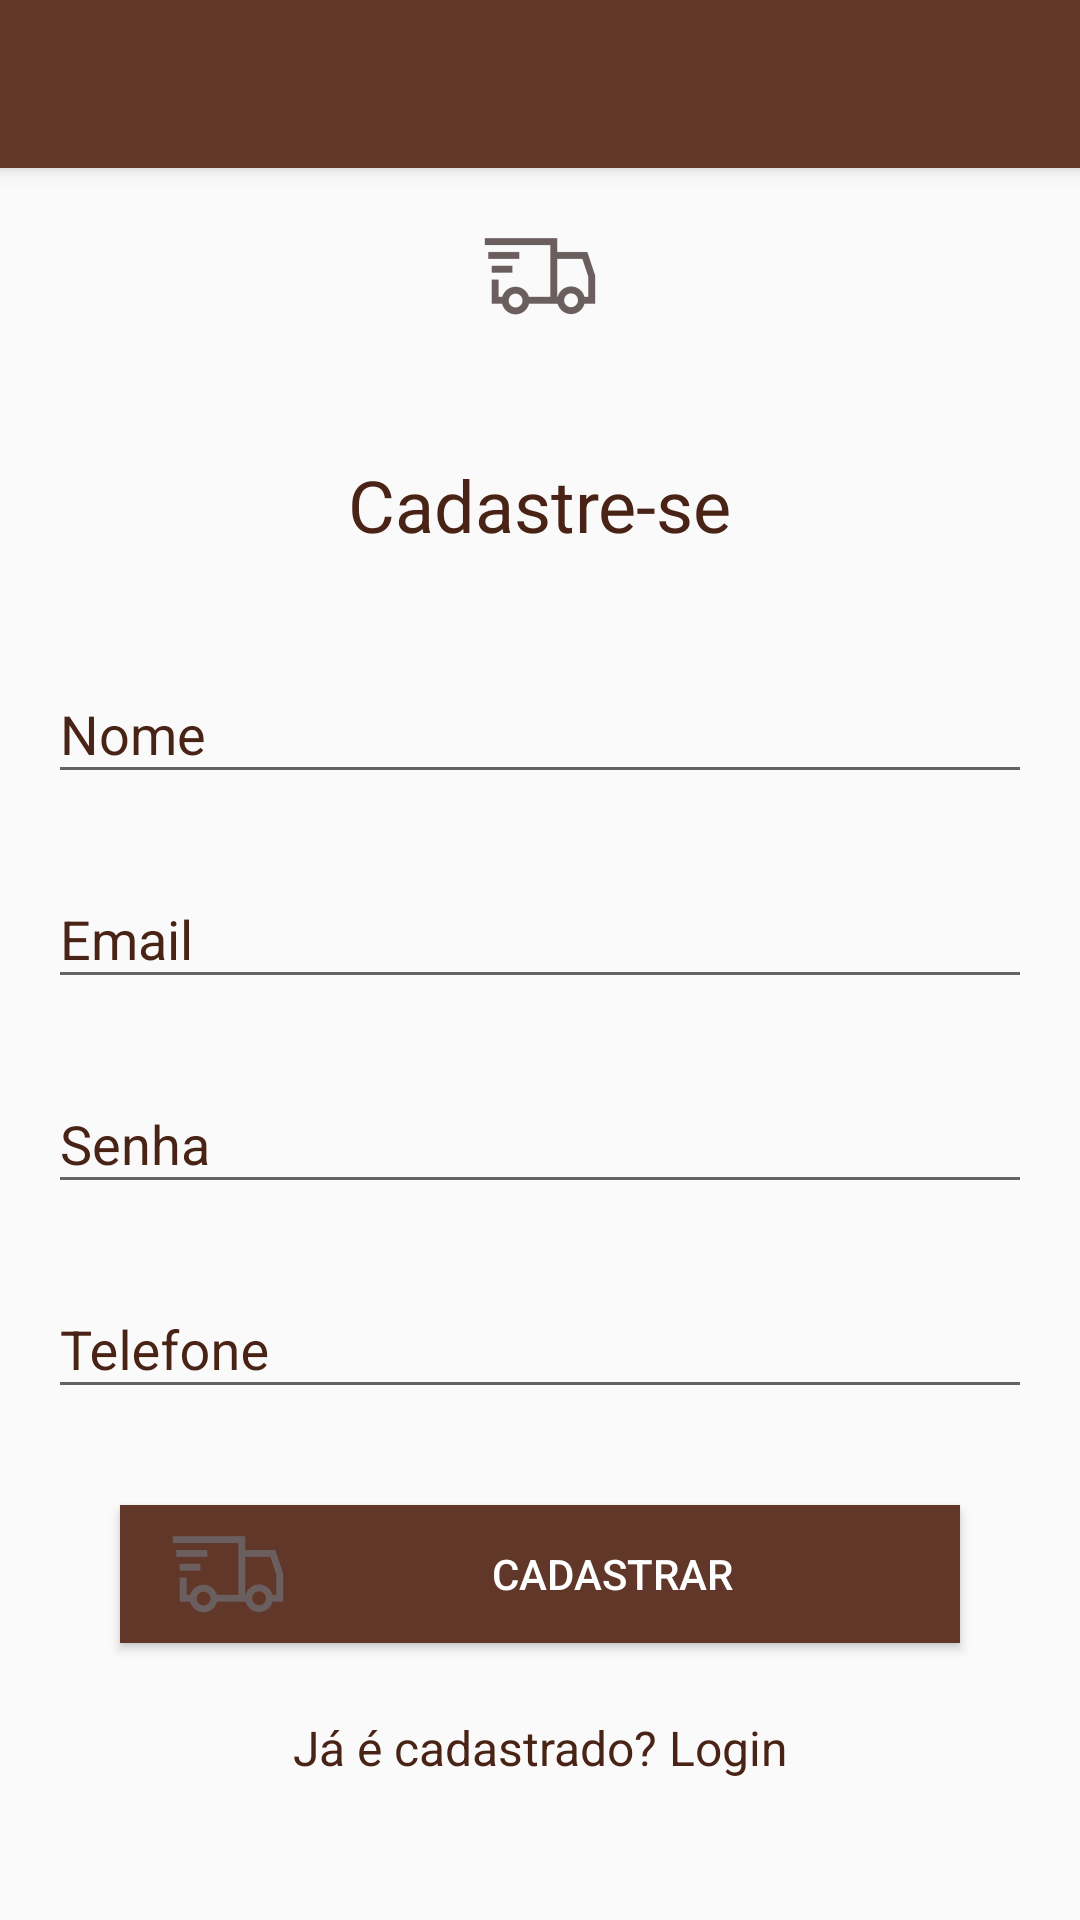

Named icons in this screenshot (1080 x 1920) and their centers, point (x, y):
truck: point (540, 276)
